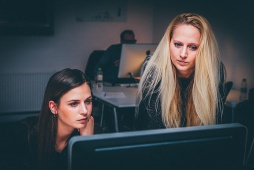female: (163, 21, 208, 75), (50, 78, 94, 131)
